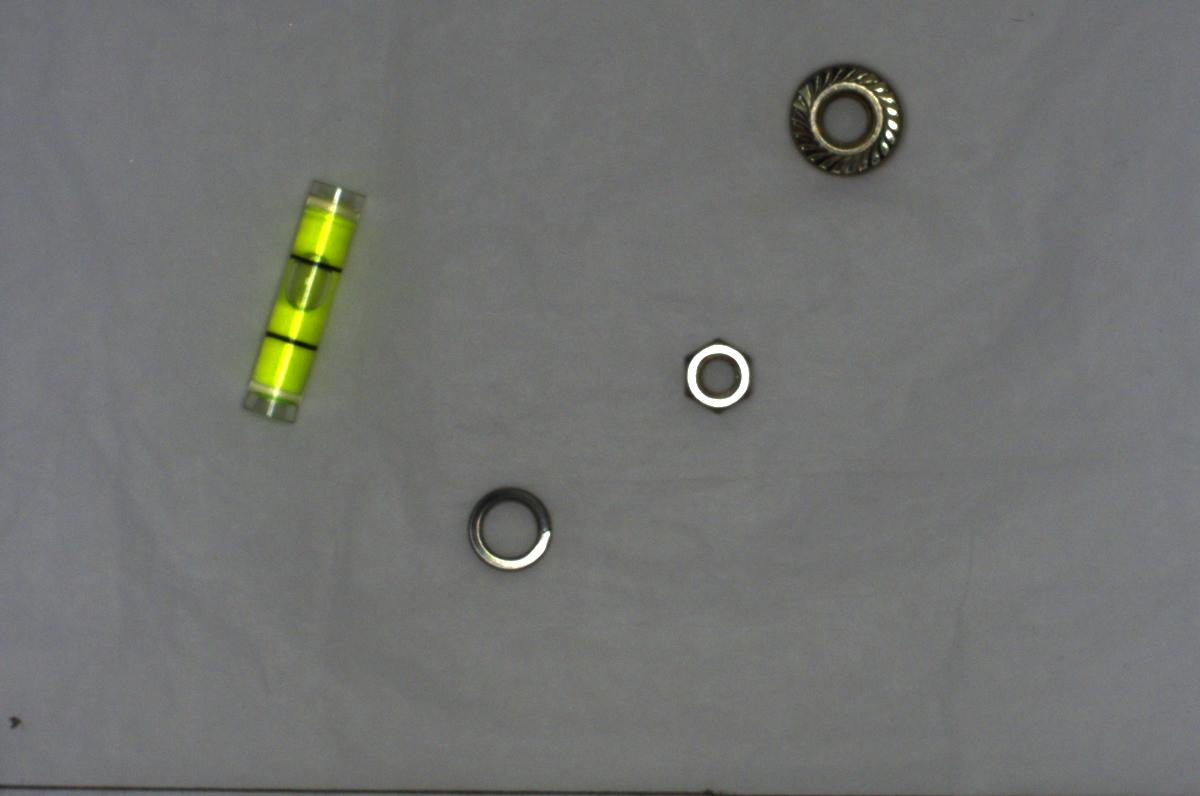Flange nut: (775, 50, 905, 181)
Hexagon nut: (668, 328, 764, 421)
Horizontal bubble: (237, 170, 367, 438)
Spring washer: (453, 479, 568, 572)
